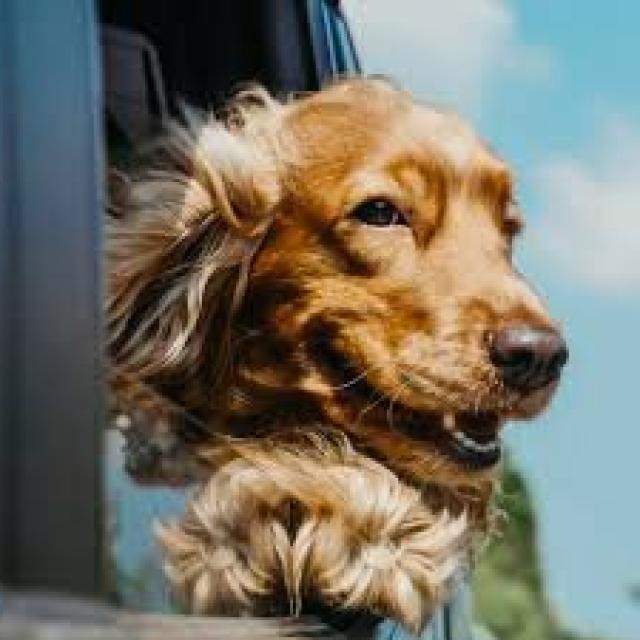dog: (111, 77, 569, 626)
